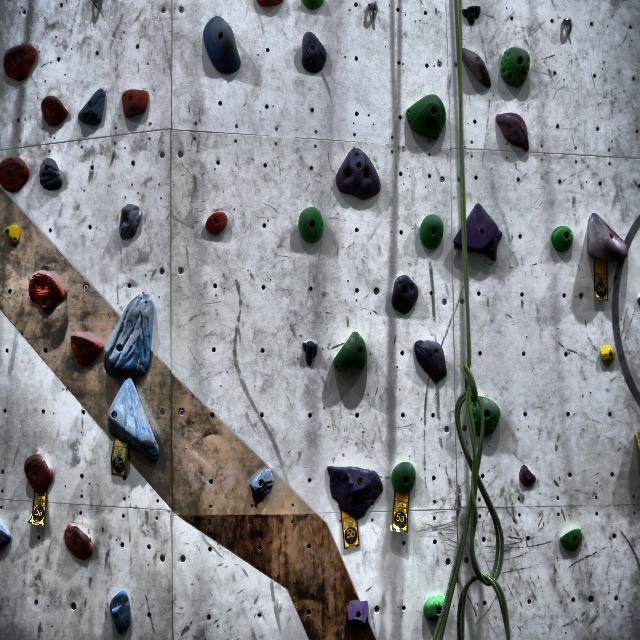Hold: (102, 287, 158, 379), (105, 383, 162, 462), (326, 464, 383, 521), (334, 144, 387, 202), (454, 203, 506, 260), (583, 212, 632, 264), (405, 93, 449, 145), (205, 15, 241, 76), (454, 44, 494, 92), (410, 338, 450, 386), (466, 392, 504, 442), (28, 272, 64, 316), (333, 331, 369, 373), (501, 49, 536, 89), (69, 325, 103, 366), (496, 111, 530, 151), (62, 523, 96, 562), (300, 28, 328, 74), (4, 42, 36, 82), (390, 272, 420, 314), (25, 453, 53, 497), (0, 156, 30, 195), (108, 590, 132, 636), (298, 206, 327, 243), (76, 89, 104, 127), (417, 592, 450, 622), (251, 464, 274, 506), (115, 200, 141, 237), (121, 88, 151, 120), (419, 212, 443, 252), (342, 598, 371, 630), (40, 97, 68, 130), (41, 156, 65, 192), (550, 222, 576, 255), (392, 462, 415, 499), (515, 463, 539, 492), (206, 205, 227, 237), (461, 0, 484, 28), (561, 527, 585, 553), (1, 223, 20, 252), (301, 342, 319, 366), (599, 343, 616, 368), (258, 0, 286, 12), (303, 0, 328, 13), (16, 441, 18, 444)
